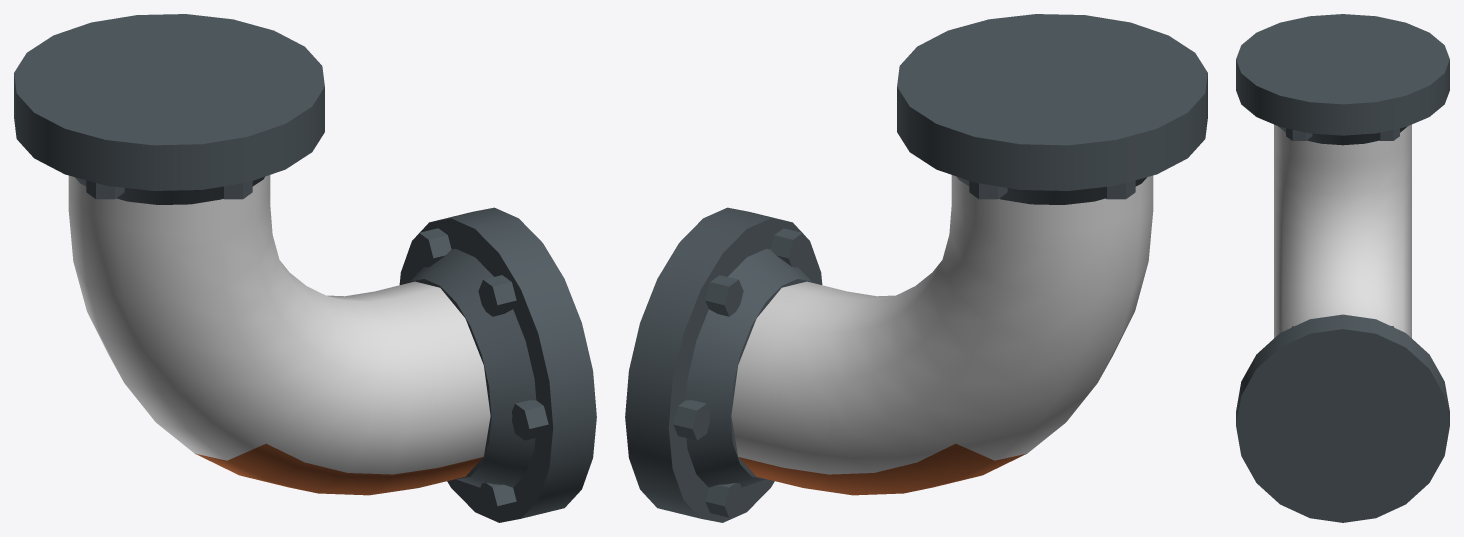
File: pipe_elbow.glb
3 views of the same model, side by side, from view 1: azimuth 30°, elevation 25°; view 2: azimuth 150°, elevation 25°; view 3: azimuth 270°, elevation 25° (orthographic). The views are drawn at different scales.
Parts seen in each view (by area): view 1: Elbow; view 2: Elbow; view 3: Elbow.
Part boxes in pixels (bbox=[...]): Elbow: bbox=[14, 14, 596, 522]; Elbow: bbox=[625, 14, 1207, 522]; Elbow: bbox=[1236, 14, 1449, 522].
Bounding box in the file's own units: 0.555 × 0.555 × 0.31.
